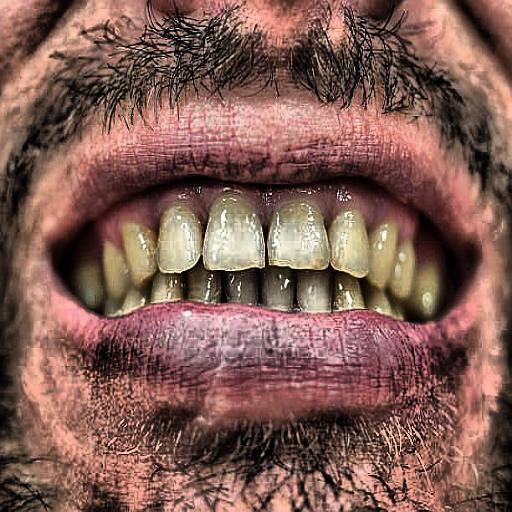Calculus: (92, 205, 472, 335)
